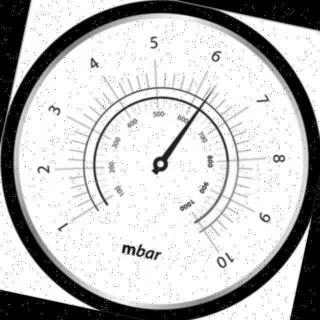gauge: (1, 0, 320, 320), (76, 189, 112, 227), (185, 214, 219, 246), (152, 154, 170, 173), (210, 79, 222, 91)
